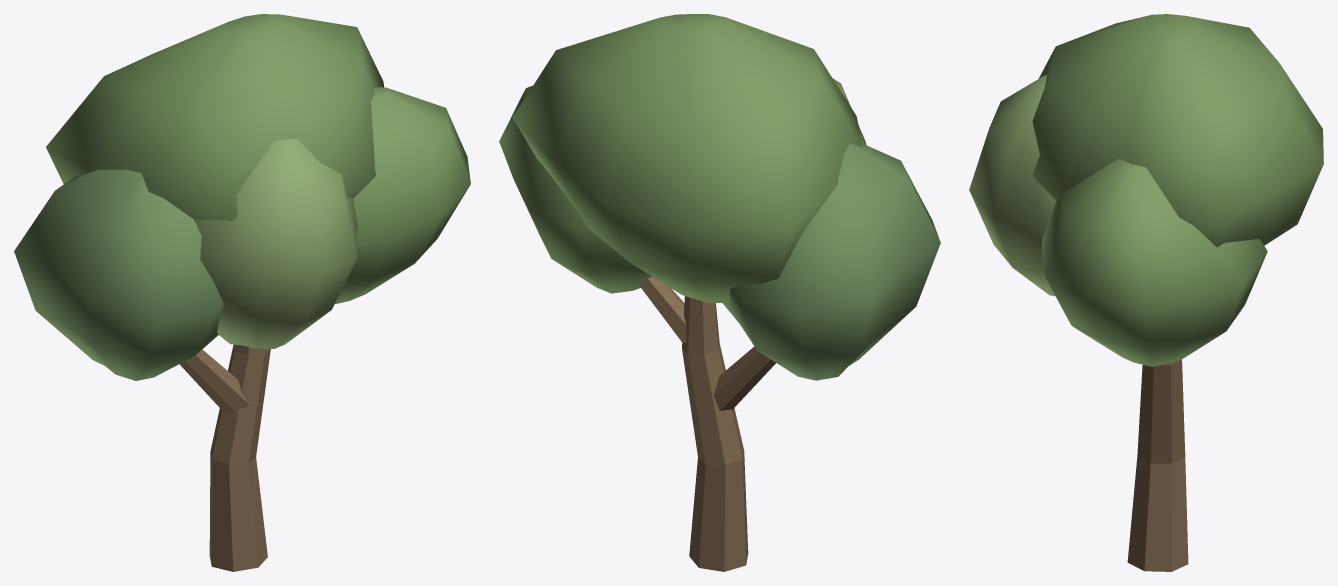
File: mango-yard.glb
3 views of the same model, side by side, from view 1: azimuth 30°, elevation 25°; view 2: azimuth 150°, elevation 25°; view 3: azimuth 270°, elevation 25° (orthographic). The views are drawn at different scales.
Parts seen in each view (by area): view 1: mango-yard; view 2: mango-yard; view 3: mango-yard.
Boxes of the visible parts, left/top/right/bottom form: mango-yard: left=14, top=14, right=470, bottom=571; mango-yard: left=499, top=14, right=940, bottom=571; mango-yard: left=969, top=14, right=1323, bottom=571.
Bounding box in the file's own units: 4.39 × 5.39 × 3.18.
